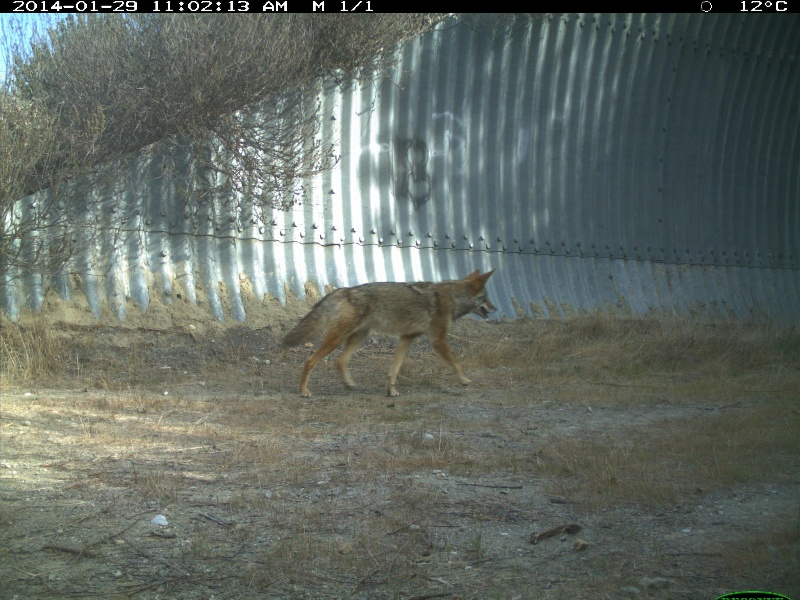coyote: (278, 264, 499, 407)
